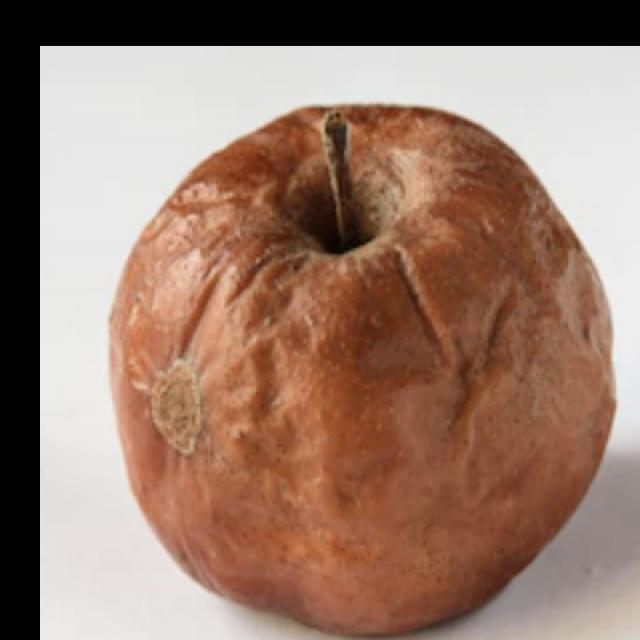Rotten: (125, 103, 623, 640)
